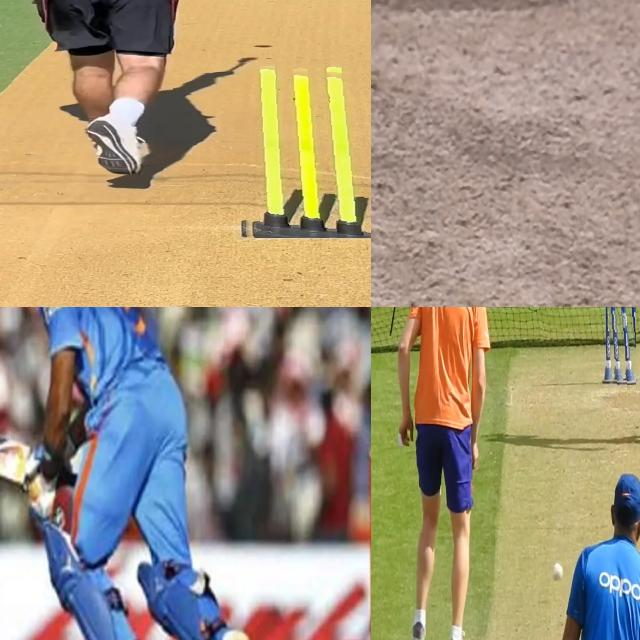Cricket ball: (550, 560, 564, 586)
Stumps: (235, 62, 371, 238), (601, 307, 636, 385)
